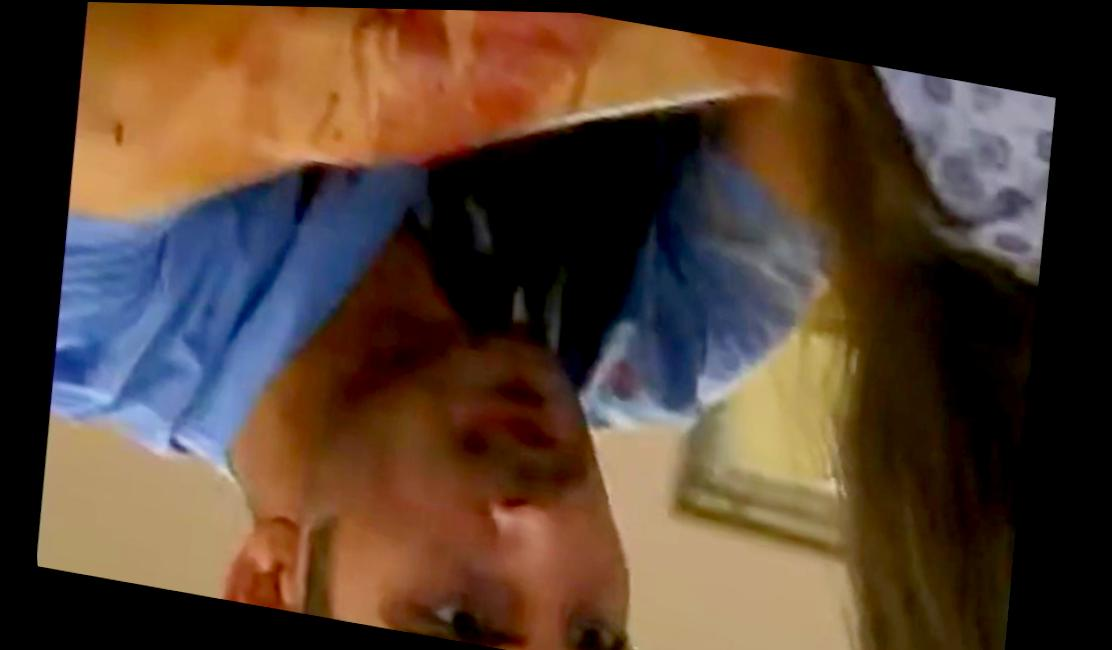Fire: (222, 4, 650, 177)
